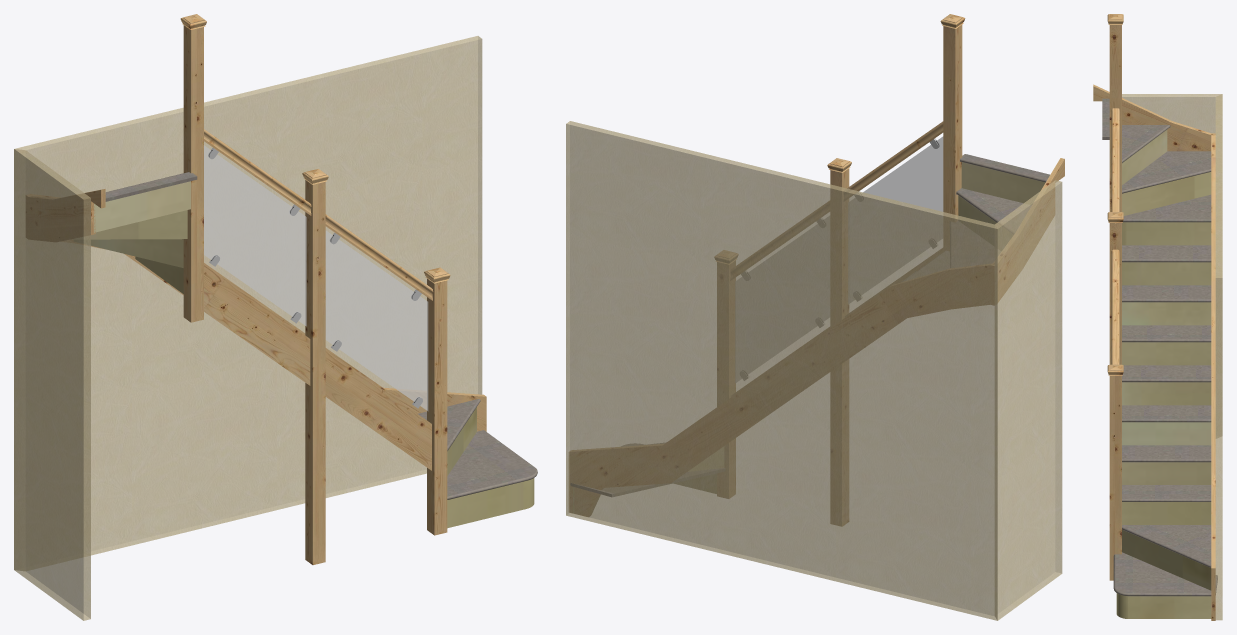
3 renders of one model, left to right at view 1: azimuth 30°, elevation 25°; view 2: azimuth 150°, elevation 25°; view 3: azimuth 270°, elevation 25°, orthographic. The views are drawn at different scales.
Parts seen in each view (by area): view 1: _x0023_BEGIN_WALLtom-wallpaper-2.jpg1110.3, _x0023_BOTTOMRAIL1110.3, _x0023_POSTtk-whitewood.jpg1111, _x0023_STRINGtk-whitewood.jpg1111, _x0023_RISERBirch.jpg1111, _x0023_TREADNew_x0020_MDF.jpg1111, _x0023_HANDRAILtk-whitewood.jpg1111; view 2: _x0023_BEGIN_WALLtom-wallpaper-2.jpg1110.3, _x0023_STRINGtk-whitewood.jpg1111, _x0023_BOTTOMRAIL1110.3, _x0023_POSTtk-whitewood.jpg1111, _x0023_TREADNew_x0020_MDF.jpg1111, _x0023_RISERBirch.jpg1111, _x0023_HANDRAILtk-whitewood.jpg1111; view 3: _x0023_RISERBirch.jpg1111, _x0023_TREADNew_x0020_MDF.jpg1111, _x0023_BEGIN_WALLtom-wallpaper-2.jpg1110.3, _x0023_POSTtk-whitewood.jpg1111, _x0023_STRINGtk-whitewood.jpg1111, _x0023_HANDRAILtk-whitewood.jpg1111.
Boxes of the visible parts, x1,y1,x2,y2 form: _x0023_BEGIN_WALLtom-wallpaper-2.jpg1110.3: (14, 36, 482, 620); _x0023_BOTTOMRAIL1110.3: (204, 145, 428, 411); _x0023_POSTtk-whitewood.jpg1111: (180, 14, 450, 564); _x0023_STRINGtk-whitewood.jpg1111: (25, 189, 486, 470); _x0023_RISERBirch.jpg1111: (72, 181, 534, 528); _x0023_TREADNew_x0020_MDF.jpg1111: (105, 171, 537, 499); _x0023_HANDRAILtk-whitewood.jpg1111: (204, 129, 433, 300); _x0023_BEGIN_WALLtom-wallpaper-2.jpg1110.3: (566, 121, 1062, 620); _x0023_STRINGtk-whitewood.jpg1111: (569, 158, 1064, 516); _x0023_BOTTOMRAIL1110.3: (735, 136, 943, 382); _x0023_POSTtk-whitewood.jpg1111: (714, 14, 965, 526); _x0023_TREADNew_x0020_MDF.jpg1111: (570, 154, 1049, 497); _x0023_RISERBirch.jpg1111: (573, 162, 1045, 513); _x0023_HANDRAILtk-whitewood.jpg1111: (730, 121, 943, 280); _x0023_RISERBirch.jpg1111: (1116, 129, 1211, 618); _x0023_TREADNew_x0020_MDF.jpg1111: (1102, 98, 1217, 596); _x0023_BEGIN_WALLtom-wallpaper-2.jpg1110.3: (1122, 94, 1222, 620); _x0023_POSTtk-whitewood.jpg1111: (1107, 14, 1123, 580); _x0023_STRINGtk-whitewood.jpg1111: (1093, 84, 1215, 620); _x0023_HANDRAILtk-whitewood.jpg1111: (1111, 108, 1119, 364).
Bounding box in the file's own units: 3.21 × 3.77 × 0.949.
Materials: 9 (6 with a texture image).
